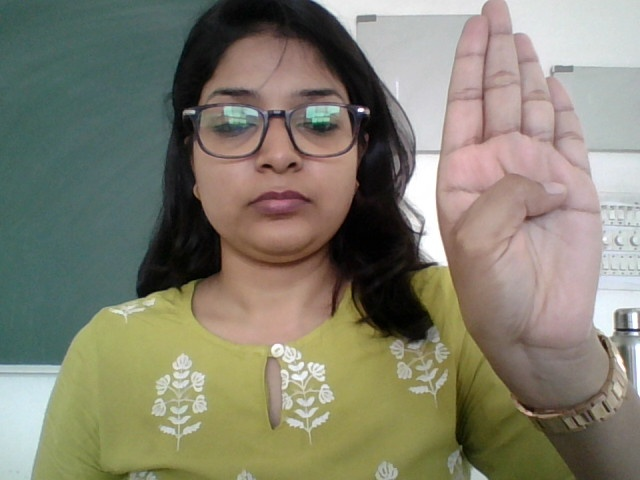B: (422, 1, 626, 406)
